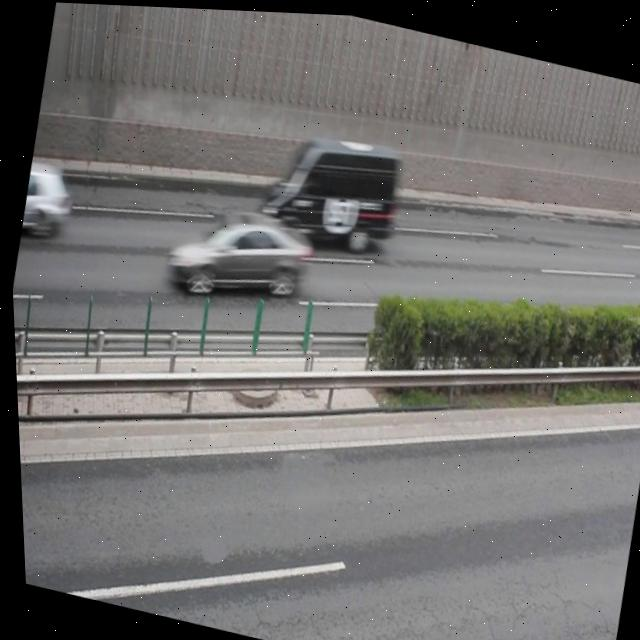car: (160, 196, 315, 312), (17, 160, 74, 241)
truck: (252, 116, 407, 256)
